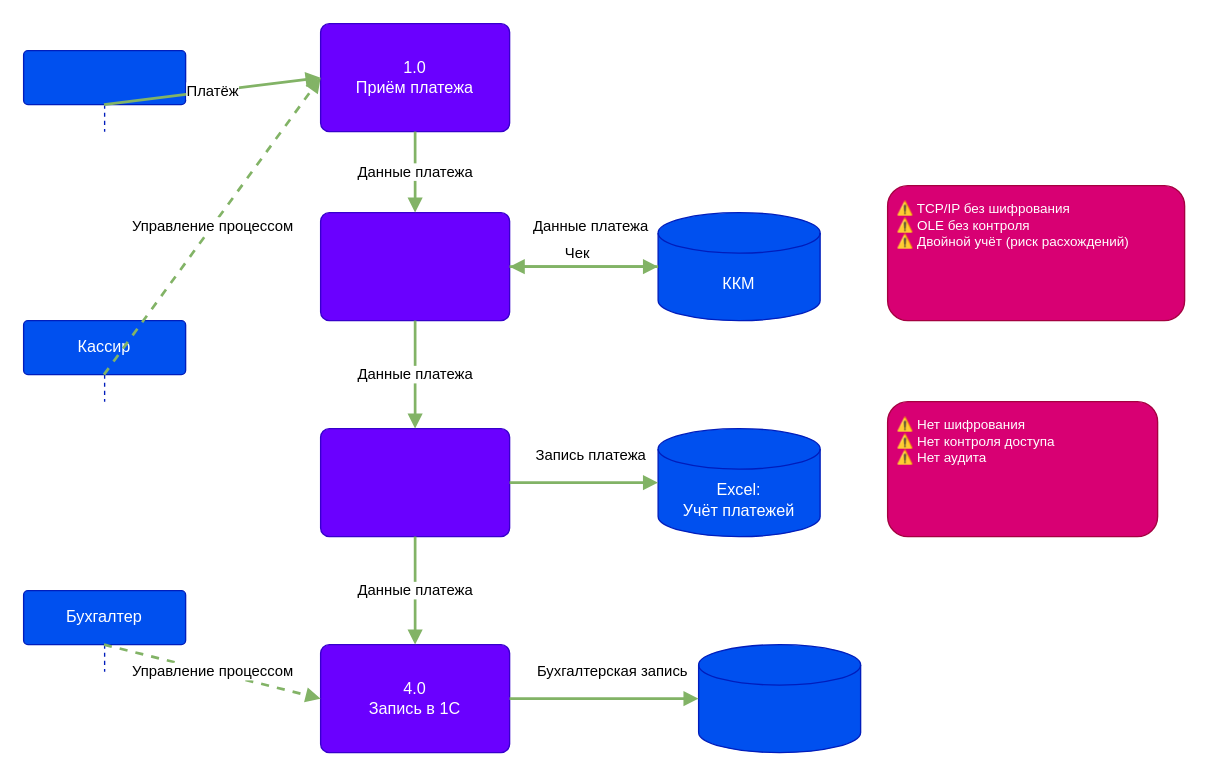
Image size: 1208x776. Some labels were removed from this diagram. The centre of each missing label's shape, as x and y in pixels:
1С: Бухгалтерия: pixel 779 698
2.0 Обработка в ККМ: pixel 414 266
3.0 Запись в Excel: pixel 414 482
Пациент: pixel 104 90
